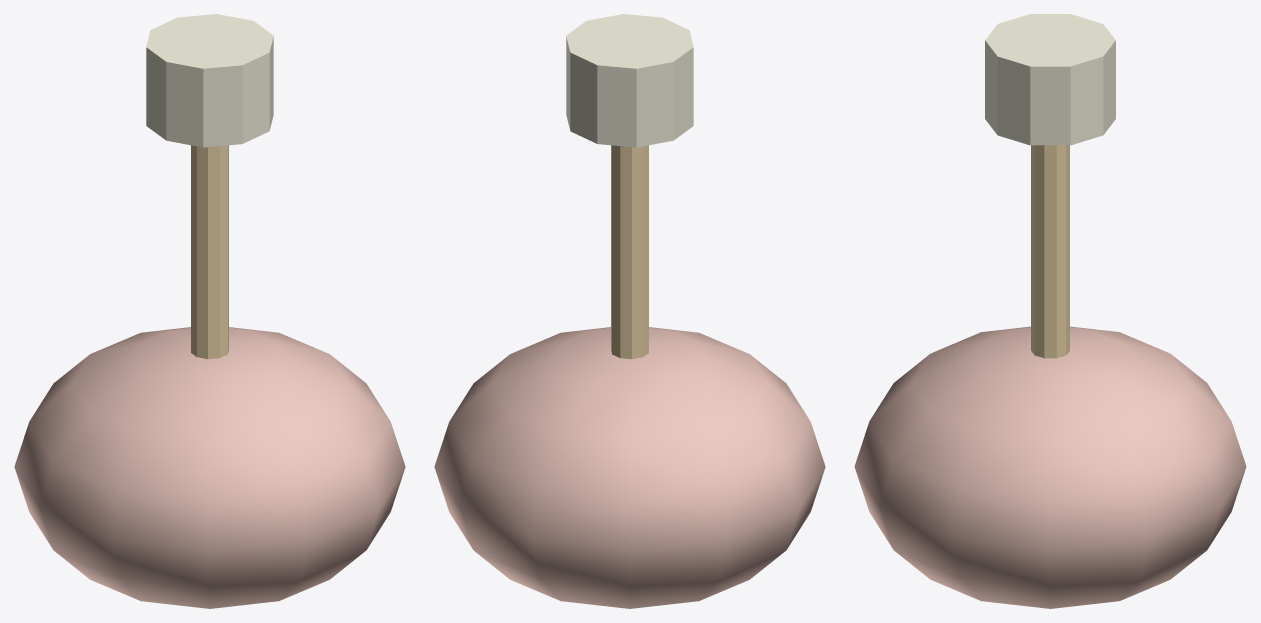
The model's file is buoy.glb.
3 renders of one model, left to right at view 1: azimuth 30°, elevation 25°; view 2: azimuth 150°, elevation 25°; view 3: azimuth 270°, elevation 25°, orthographic.
Visible parts, largest first — view 1: buoy_Sun_coral, buoy_Pearl_edge, buoy_Diver_brass; view 2: buoy_Sun_coral, buoy_Pearl_edge, buoy_Diver_brass; view 3: buoy_Sun_coral, buoy_Pearl_edge, buoy_Diver_brass.
Part boxes in pixels (<box>): buoy_Sun_coral: <box>14,327,405,608</box>; buoy_Pearl_edge: <box>146,14,273,147</box>; buoy_Diver_brass: <box>191,145,228,359</box>; buoy_Sun_coral: <box>434,327,825,608</box>; buoy_Pearl_edge: <box>566,14,693,147</box>; buoy_Diver_brass: <box>611,145,648,359</box>; buoy_Sun_coral: <box>854,326,1246,608</box>; buoy_Pearl_edge: <box>985,14,1115,145</box>; buoy_Diver_brass: <box>1031,145,1069,358</box>.
Size of the model in its own units: 0.9 by 1.38 by 0.9.
